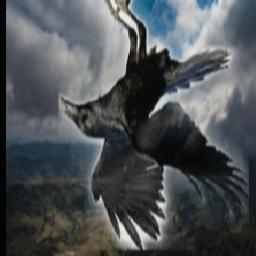Crow: (59, 0, 250, 251)
